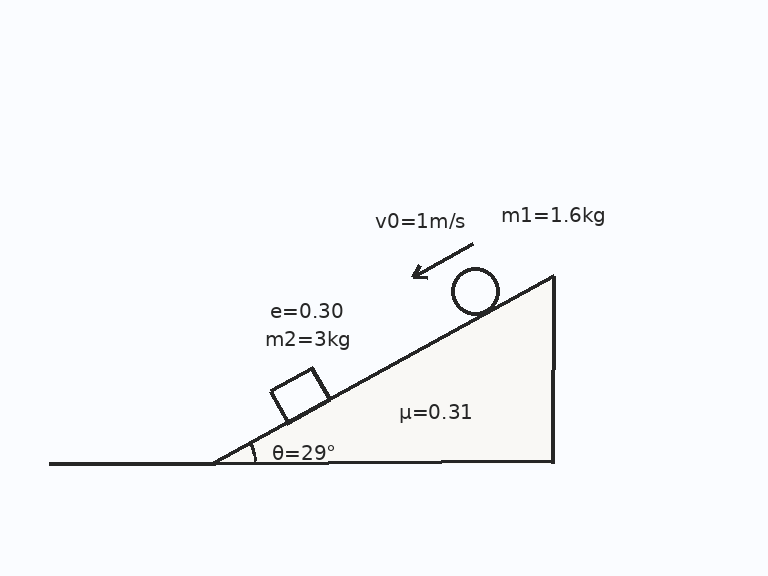ball: (449, 265, 501, 317)
block: (268, 366, 332, 425)
ramp: (213, 273, 555, 465)
